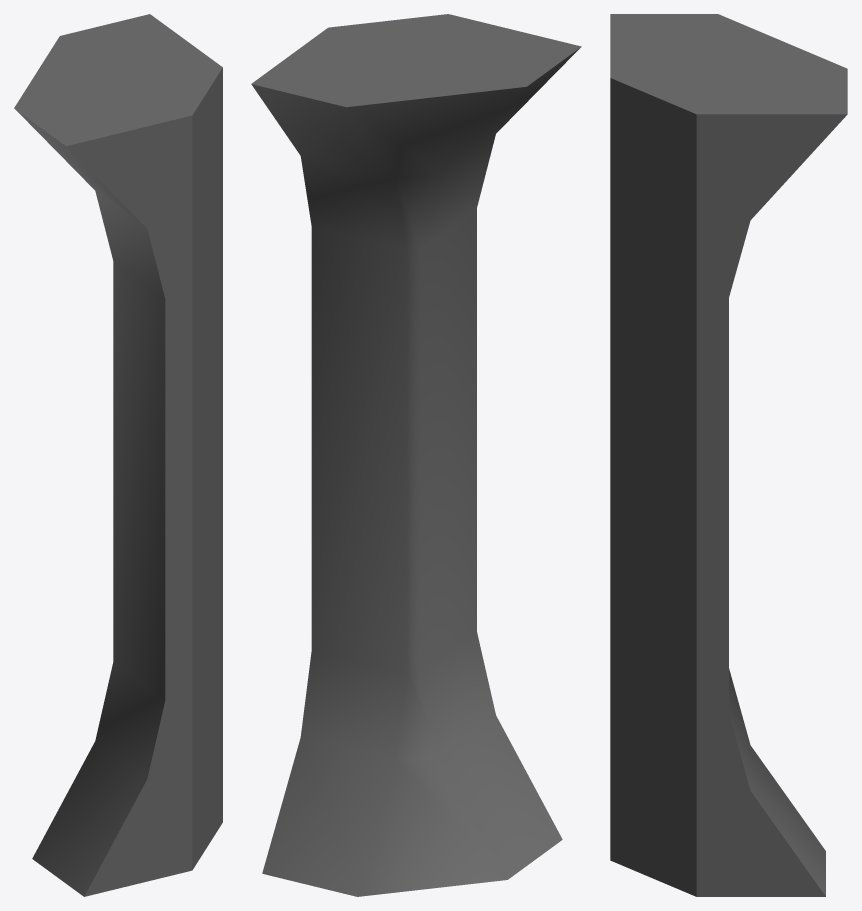
Rendered from Sect_Corner_4_Inverted.FBX.
3 views of the same model, side by side, from view 1: azimuth 30°, elevation 25°; view 2: azimuth 150°, elevation 25°; view 3: azimuth 270°, elevation 25° (orthographic). The views are drawn at different scales.
Parts seen in each view (by area): view 1: Inverted_Corner; view 2: Inverted_Corner; view 3: Inverted_Corner.
Part boxes in pixels (x1=…): Inverted_Corner: x1=14, y1=14, x2=222, y2=896; Inverted_Corner: x1=251, y1=14, x2=581, y2=896; Inverted_Corner: x1=610, y1=14, x2=847, y2=896.
Size of the model in its own units: 1.1 by 4 by 1.1.
